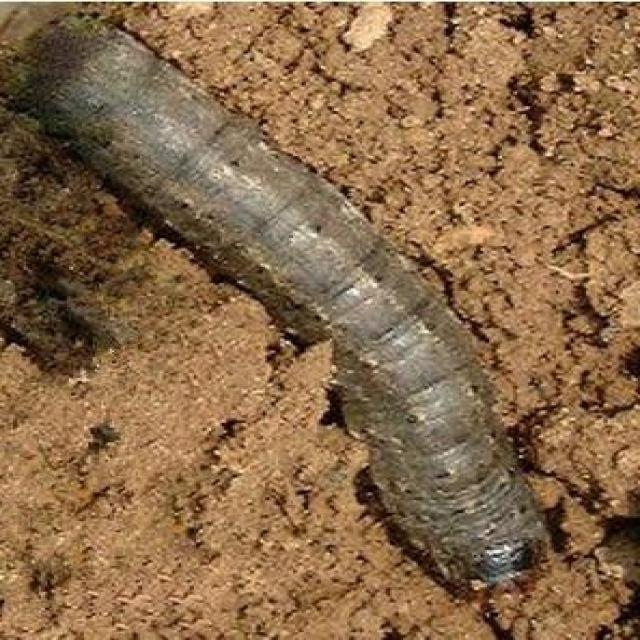black cutworm: (23, 16, 561, 629)
